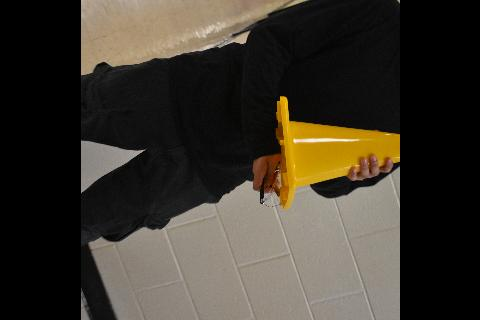cone: (274, 96, 400, 210)
